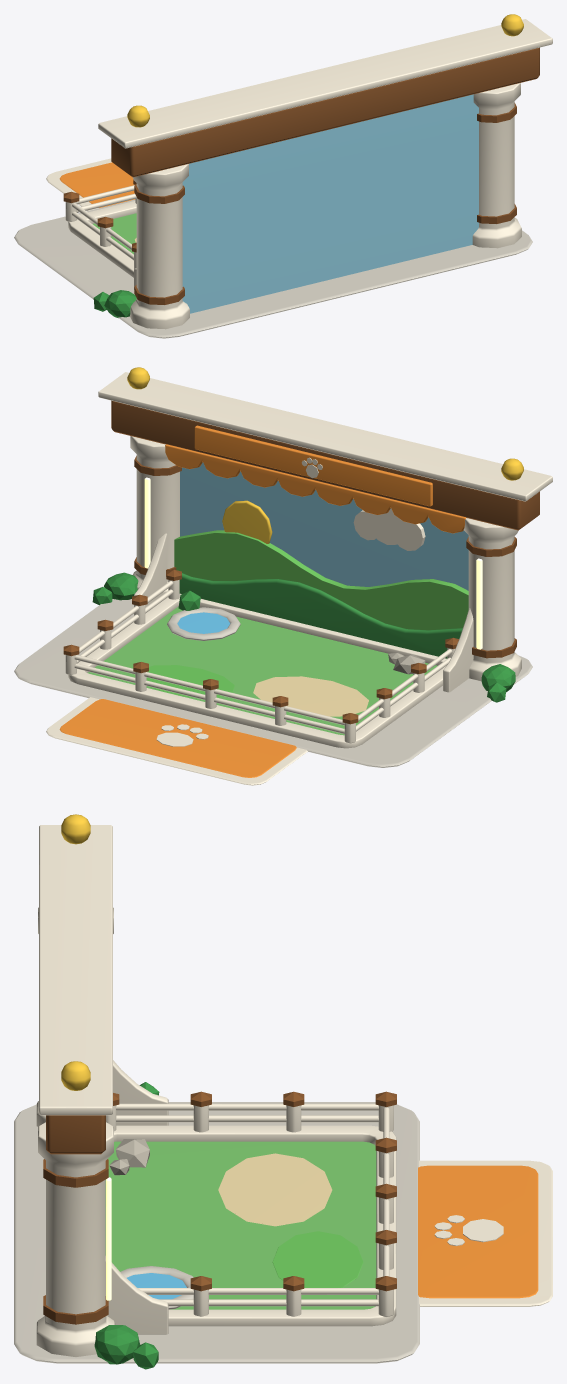
The model's file is ZooKit_Enclosure_v2.glb.
The picture shows the model from 3 angles, top to bottom: view 1: azimuth 30°, elevation 25°; view 2: azimuth 150°, elevation 25°; view 3: azimuth 270°, elevation 25°; orthographic projection. The views are drawn at different scales.
Parts seen in each view (by area): view 1: Enclosure__sky, Enclosure__cream, Enclosure__wood, Enclosure__stone, Enclosure__cap, Enclosure__accent, Enclosure__bush, Enclosure__yellow, Enclosure__grass; view 2: Enclosure__cream, Enclosure__accent, Enclosure__sky, Enclosure__grass, Enclosure__stone, Enclosure__leafLight, Enclosure__leaf, Enclosure__wood, Enclosure__cap, Enclosure__sand, Enclosure__paw, Enclosure__bush (+3 smaller); view 3: Enclosure__cream, Enclosure__grass, Enclosure__stone, Enclosure__accent, Enclosure__sand, Enclosure__cap, Enclosure__leafLight, Enclosure__wood, Enclosure__bush, Enclosure__yellow, Enclosure__paw, Enclosure__rock (+2 smaller).
Boxes of the visible parts, <box> form: Enclosure__sky: <box>182,94,478,313</box>; Enclosure__cream: <box>46,19,552,329</box>; Enclosure__wood: <box>111,47,539,177</box>; Enclosure__stone: <box>14,199,532,338</box>; Enclosure__cap: <box>63,103,516,304</box>; Enclosure__accent: <box>59,162,135,207</box>; Enclosure__bush: <box>93,290,136,318</box>; Enclosure__yellow: <box>127,14,523,127</box>; Enclosure__grass: <box>92,213,136,254</box>; Enclosure__cream: <box>46,372,552,785</box>; Enclosure__accent: <box>59,425,465,777</box>; Enclosure__sky: <box>180,462,468,590</box>; Enclosure__grass: <box>88,607,437,735</box>; Enclosure__stone: <box>14,599,532,767</box>; Enclosure__leafLight: <box>146,530,468,697</box>; Enclosure__leaf: <box>179,573,462,658</box>; Enclosure__wood: <box>111,400,539,530</box>; Enclosure__cap: <box>63,456,516,724</box>; Enclosure__sand: <box>253,676,368,716</box>; Enclosure__paw: <box>156,457,425,746</box>; Enclosure__bush: <box>92,572,515,702</box>; Enclosure__cream: <box>36,825,552,1356</box>; Enclosure__grass: <box>105,1141,376,1309</box>; Enclosure__stone: <box>14,1102,419,1363</box>; Enclosure__accent: <box>418,1165,538,1298</box>; Enclosure__sand: <box>218,1153,332,1226</box>; Enclosure__cap: <box>43,1091,396,1324</box>; Enclosure__leafLight: <box>272,1231,363,1287</box>; Enclosure__wood: <box>46,1115,105,1154</box>; Enclosure__bush: <box>94,1082,159,1369</box>; Enclosure__yellow: <box>61,814,90,1090</box>; Enclosure__paw: <box>434,1215,503,1245</box>; Enclosure__rock: <box>109,1139,149,1175</box>.
Size of the model in its own units: 47 by 23.33 by 37.85.
